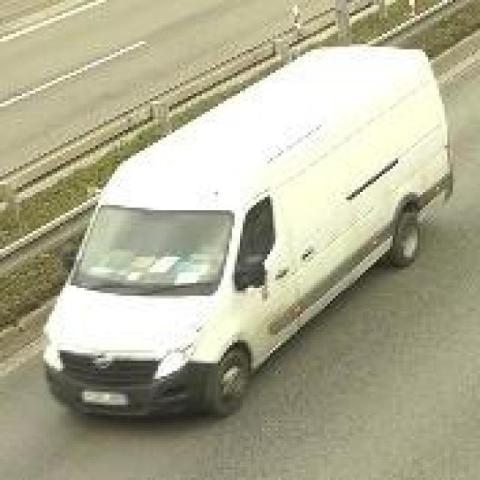van: (41, 49, 453, 410)
